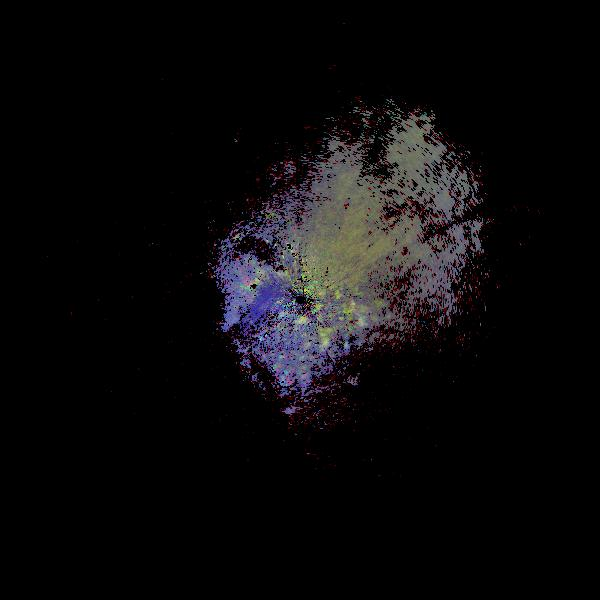roost: (334, 295, 376, 337), (283, 360, 316, 393), (312, 326, 342, 356)
